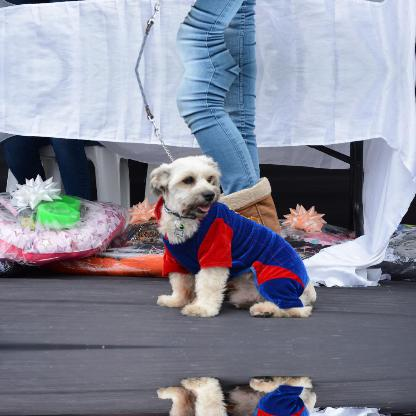Dog: (150, 154, 316, 316), (149, 376, 317, 415)
